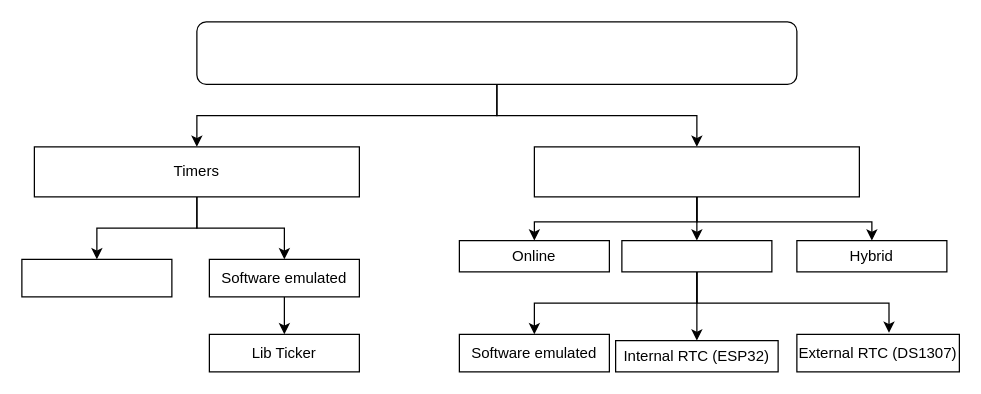
Some shapes in this 981 by 394 pixel diagram are drawn without their labels. Each missing label, with the centre of its shape:
"Hardware" belongs at [96,277].
"Offline" belongs at [696,255].
"Real Time Clock (RTC)" belongs at [696,171].
"Timers and Real Time Clock (RTC)" belongs at [496,52].
